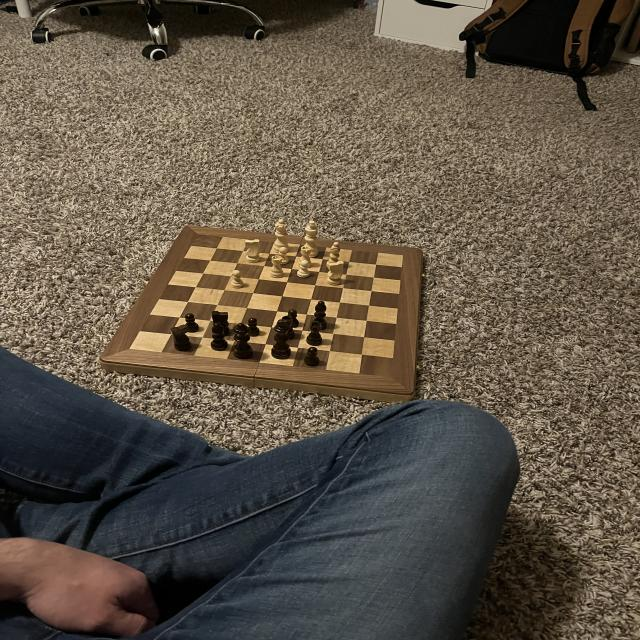bishop: (208, 319, 230, 353), (310, 300, 331, 330)
black-bishop: (269, 319, 294, 360)
black-king: (168, 324, 194, 352), (209, 309, 232, 337)
black-knight: (182, 311, 200, 334), (303, 347, 322, 367), (246, 316, 262, 338), (286, 308, 300, 328)
black-pawn: (228, 322, 257, 362)
black-queen: (305, 320, 324, 347), (280, 315, 298, 340)
black-rook: (326, 240, 344, 270)
white-bishop: (300, 220, 320, 258)
white-king: (325, 260, 346, 288), (244, 238, 262, 265)
white-knight: (295, 258, 312, 279), (229, 269, 245, 289), (276, 244, 290, 265)
white-pawn: (270, 217, 290, 254)
white-queen: (267, 254, 287, 280), (296, 244, 315, 270)
